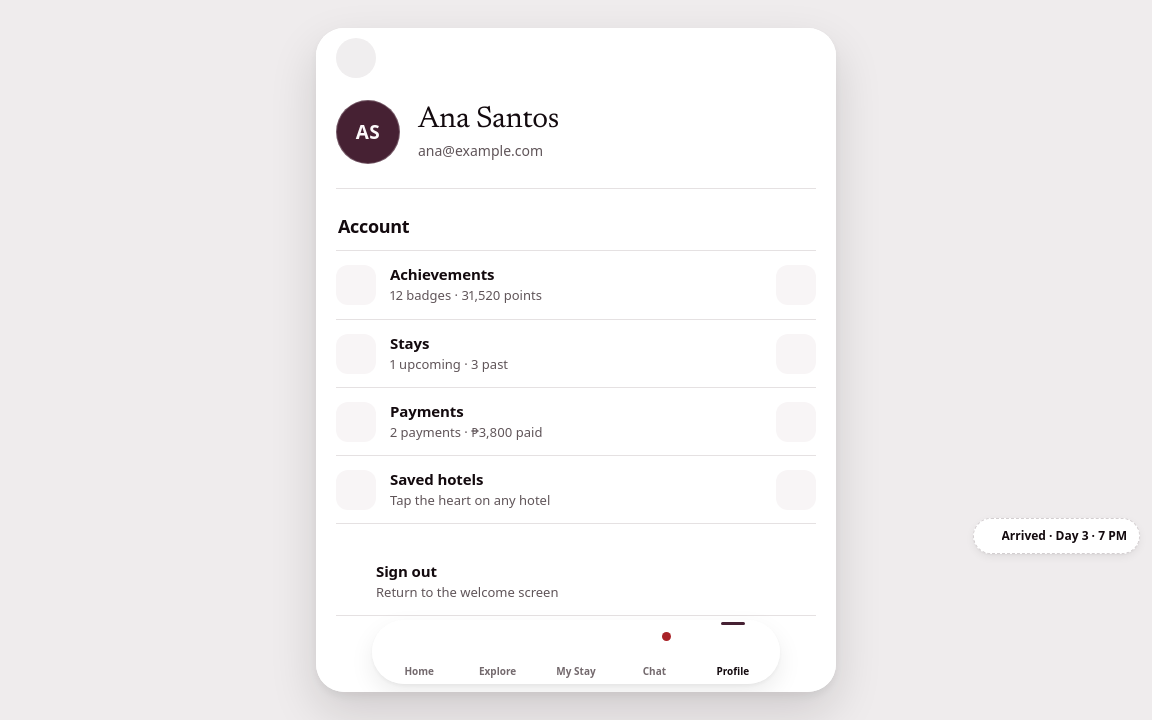
Test: the badge detail page › presents an earned badge as a coin engraved with the holder
The width and height of the screenshot is (1152, 720).
Click the button "Achievements 12 badges · 31,520 points".
click(356, 285)  # box [336,251,816,319]
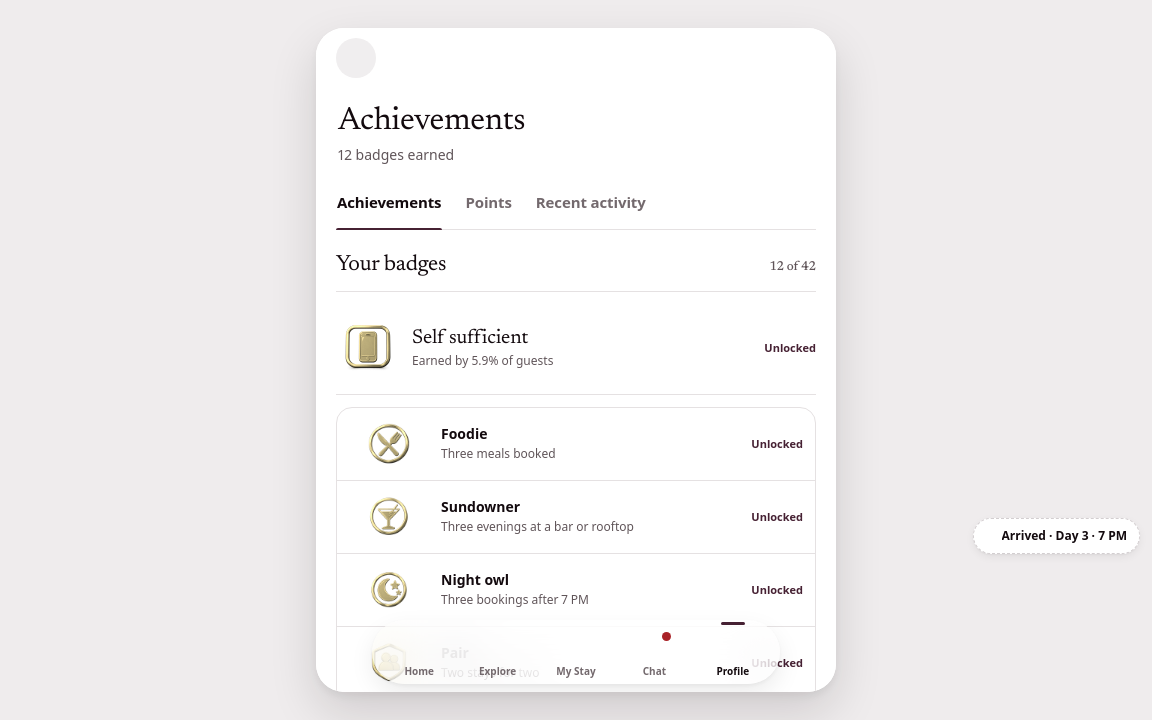
Click the button "Foodie Three meals booked Unlocked".
click(389, 444)  # box [337,408,815,480]
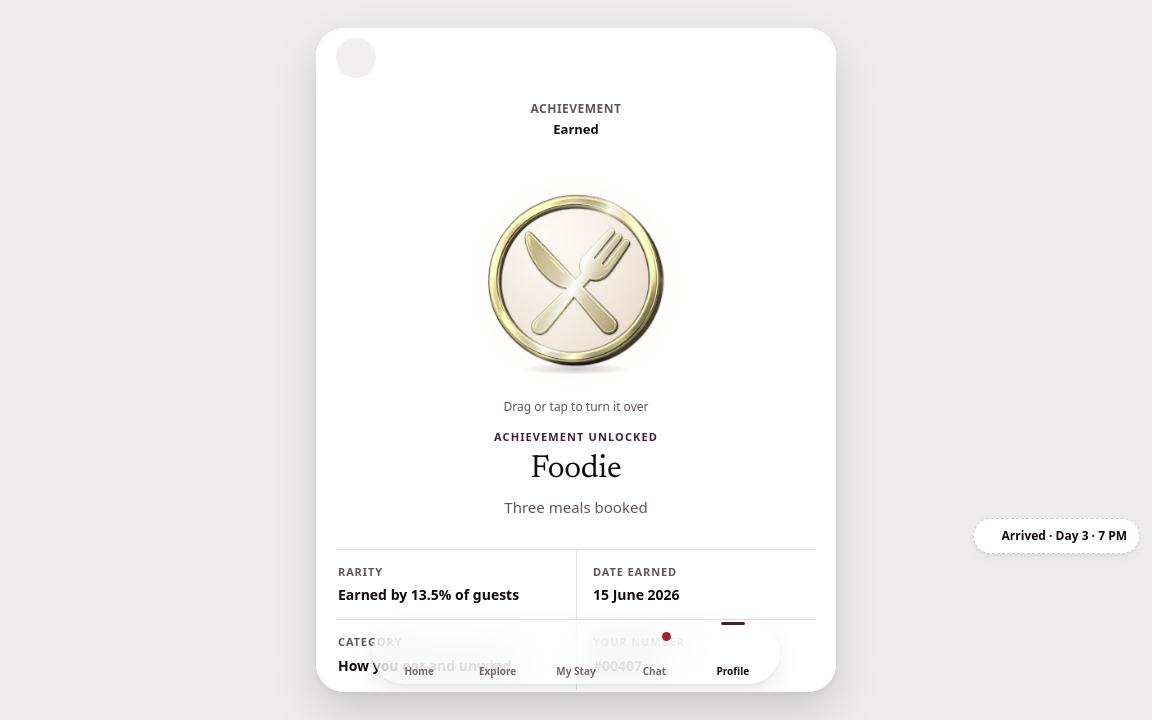
expect the text "Ana Santos" is shown: met, box [525,263,627,281]
expect the text "Rarity" is shown: met, box [338,564,383,578]
expect the text "Date earned" is shown: met, box [593,564,677,578]
